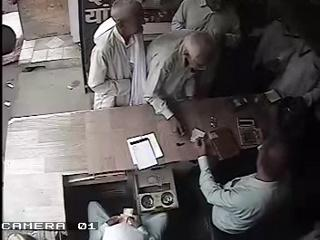Normal: (194, 91, 308, 240), (144, 29, 218, 103)
shoplifting: (88, 0, 148, 110)
